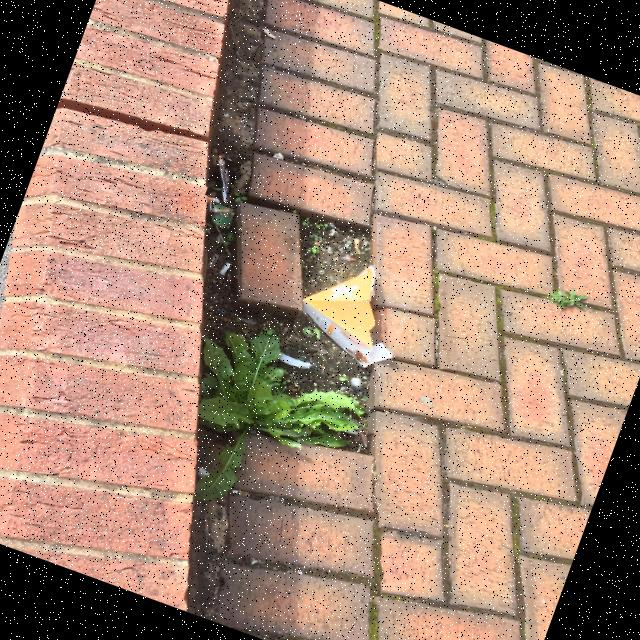Aluminium foil: (217, 158, 231, 203)
Cigarette: (219, 262, 232, 276), (213, 207, 231, 213), (206, 198, 219, 204), (344, 241, 352, 250), (329, 248, 332, 254)
Meal carton: (302, 266, 393, 368)
Plastic bottle cap: (212, 210, 233, 228)
